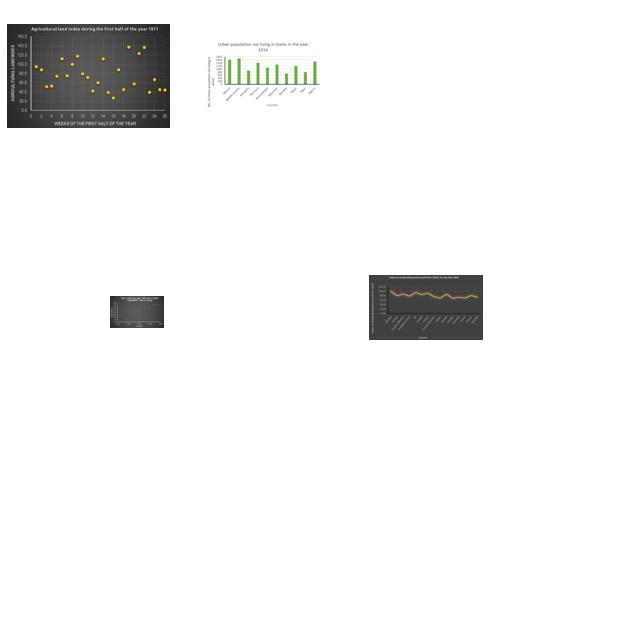Graph: (7, 24, 170, 128), (205, 41, 321, 109), (369, 275, 483, 340), (110, 296, 164, 328)
